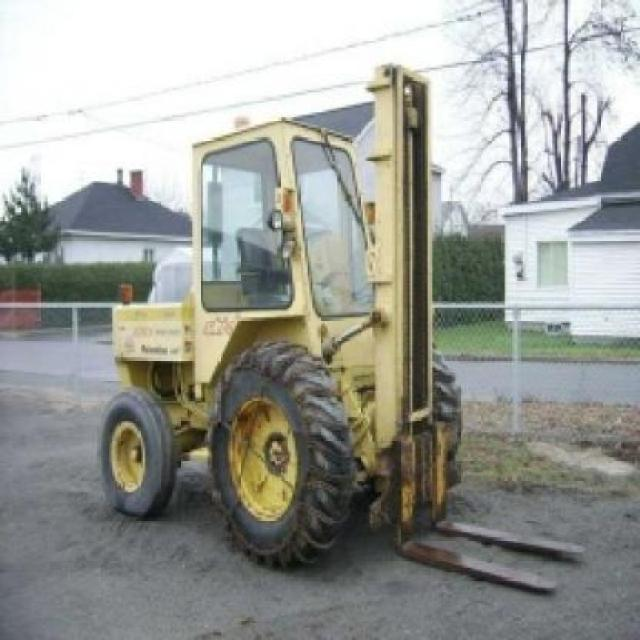forklift: (87, 58, 466, 571)
